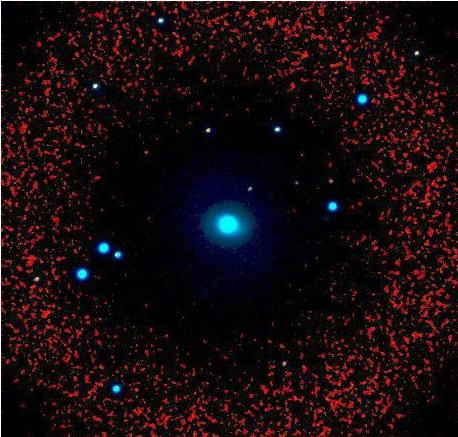star: (130, 136, 160, 166)
